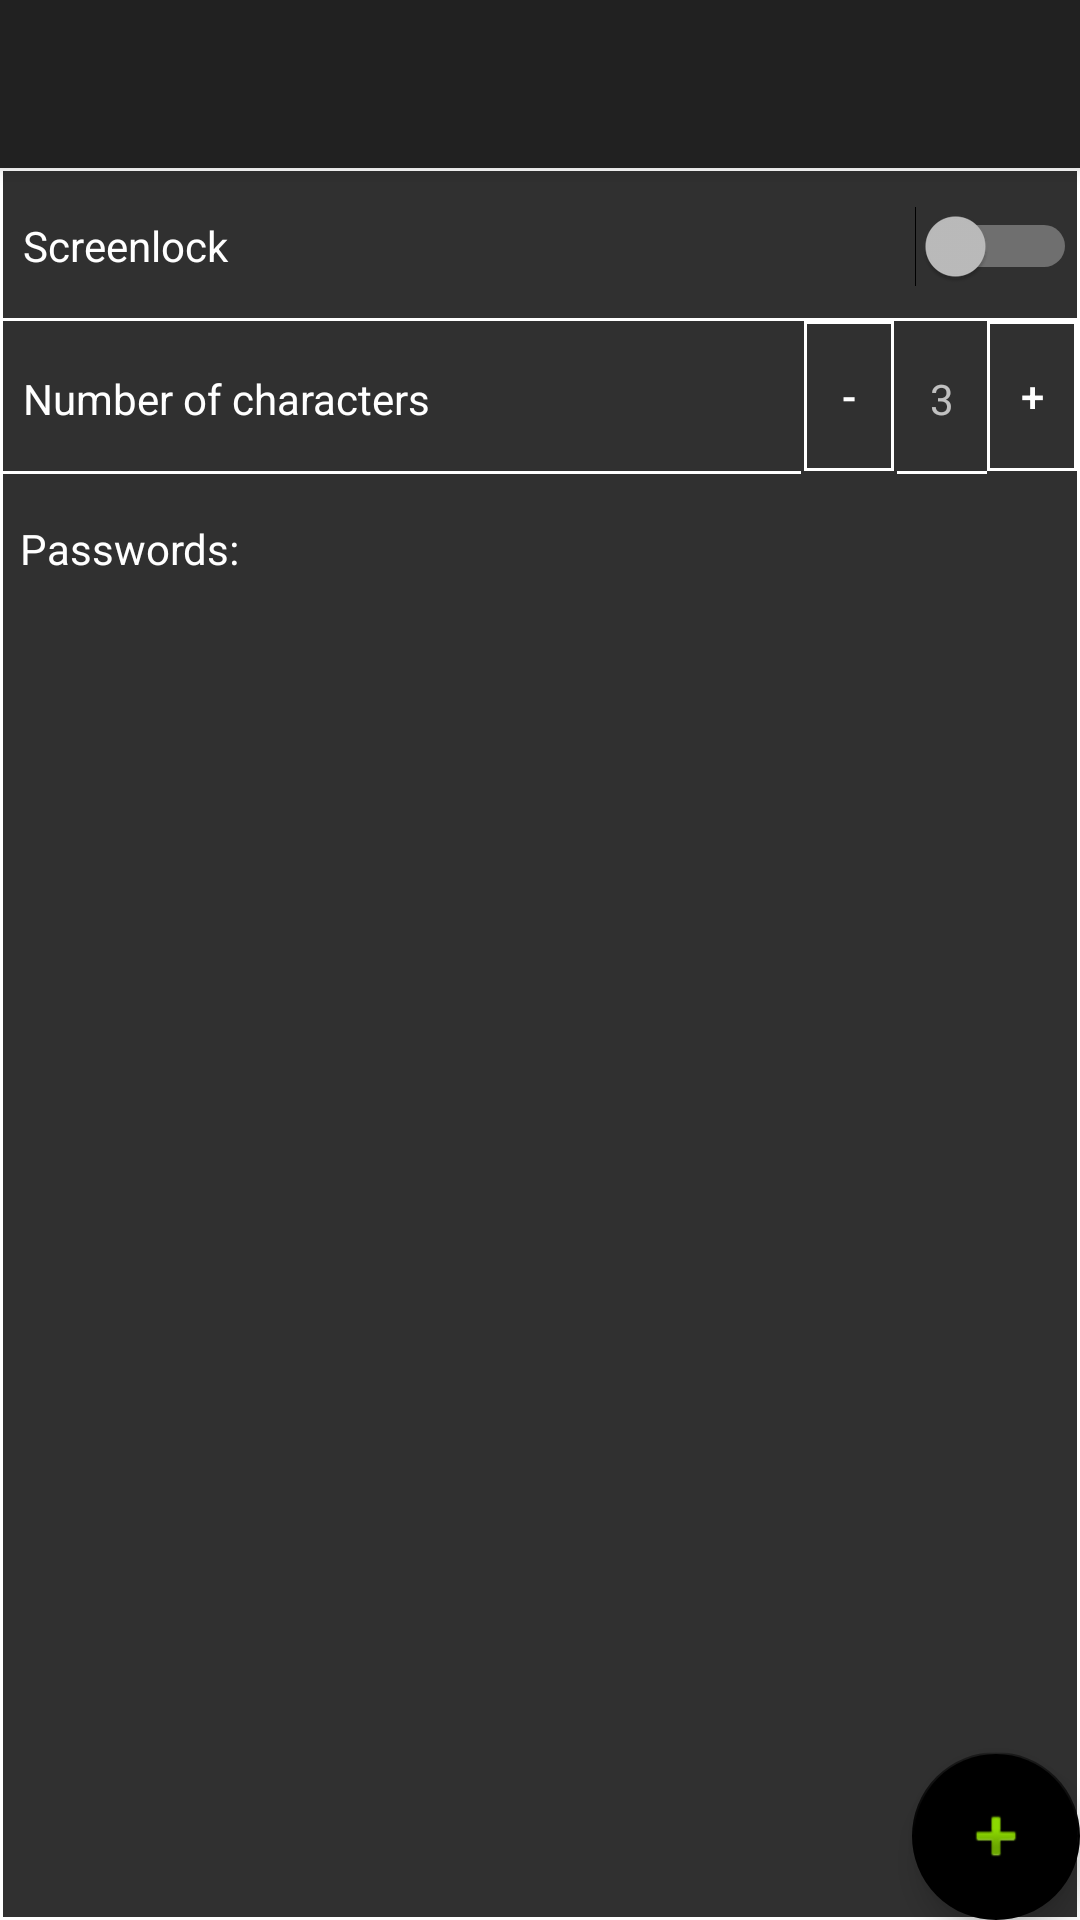

Icons on this 1080x1920 Android screen, each with the point to tap as point (x, y):
add: point (996, 1836)
